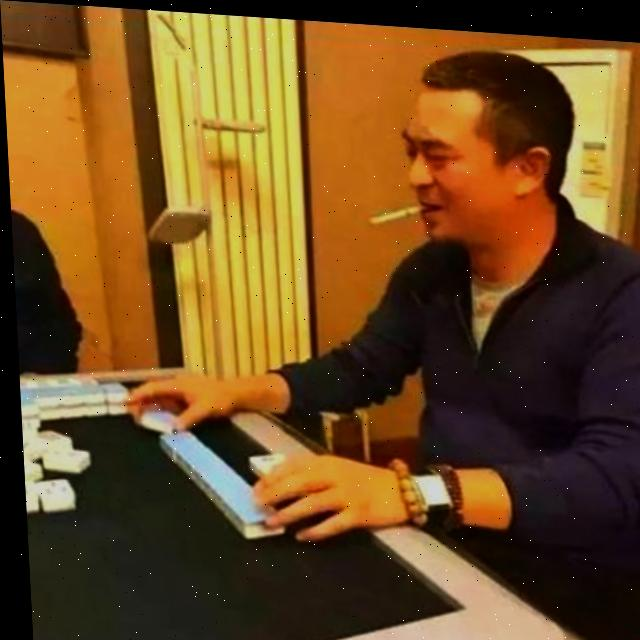cigarette: (365, 194, 427, 224)
